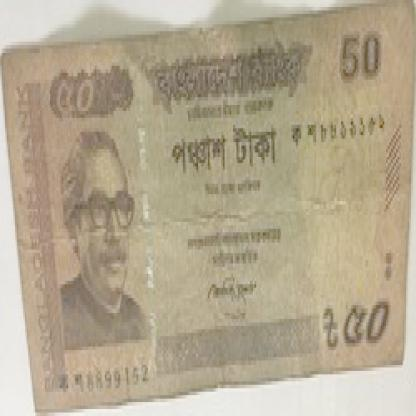Fifty taka: (339, 291, 391, 357), (52, 76, 93, 132)
